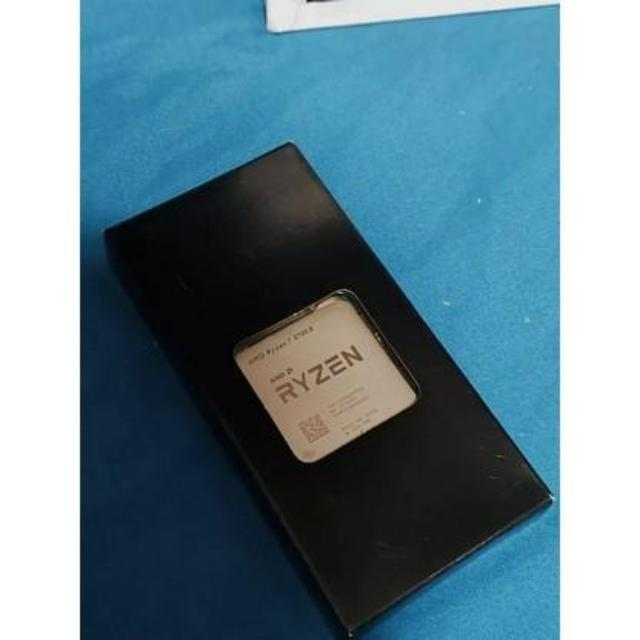CPU: (233, 286, 422, 469)
